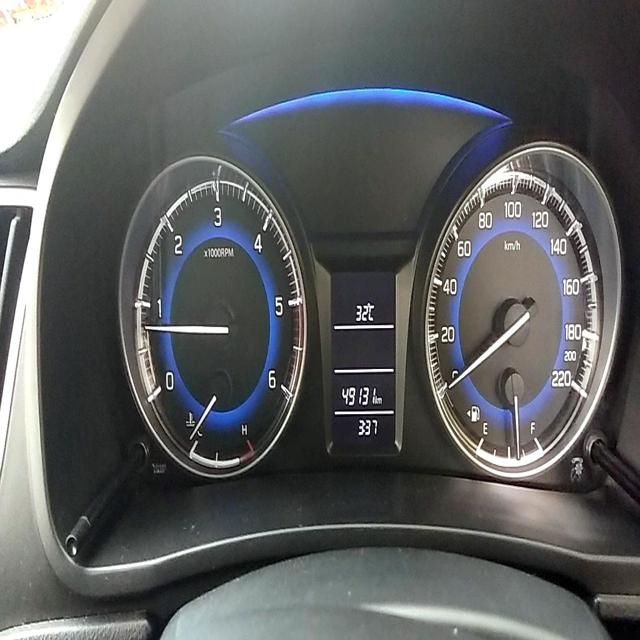odometer: (340, 385, 377, 407)
